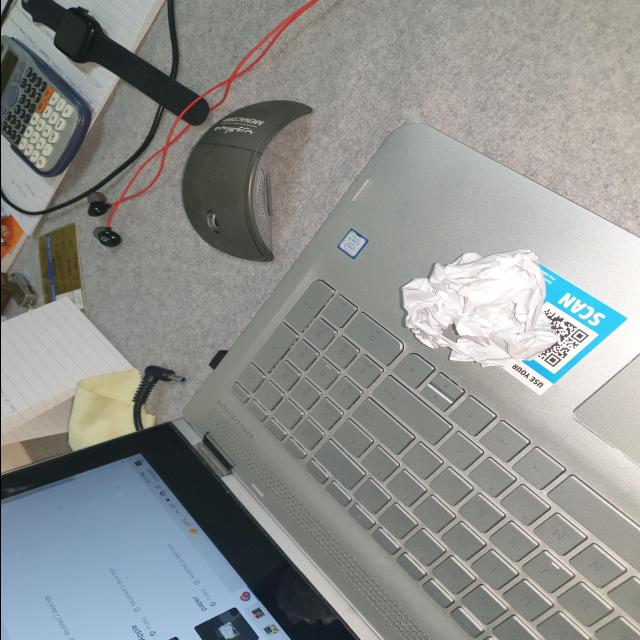kertas: (382, 240, 572, 382)
